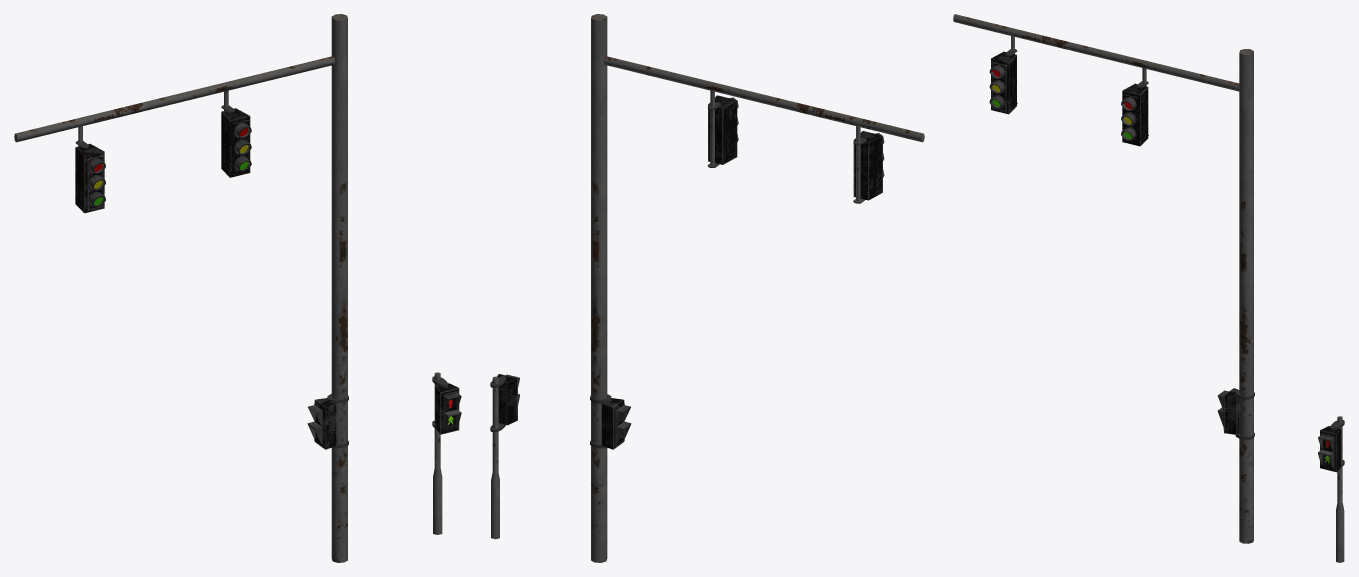
File: trafficlight.glb
3 views of the same model, side by side, from view 1: azimuth 30°, elevation 25°; view 2: azimuth 150°, elevation 25°; view 3: azimuth 330°, elevation 25° (orthographic). The views are drawn at different scales.
Bounding box in the file's own units: 3.85 × 4.6 × 0.4064.
Materials: 1 (1 with a texture image).
